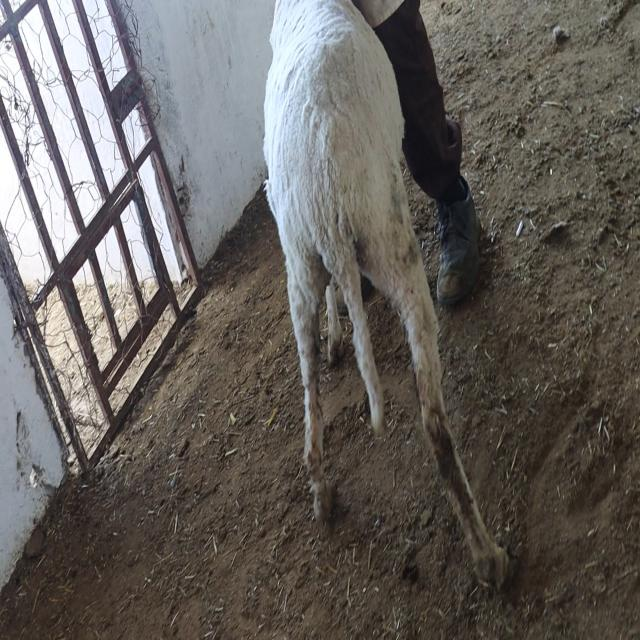Score_4: (264, 0, 509, 585)
